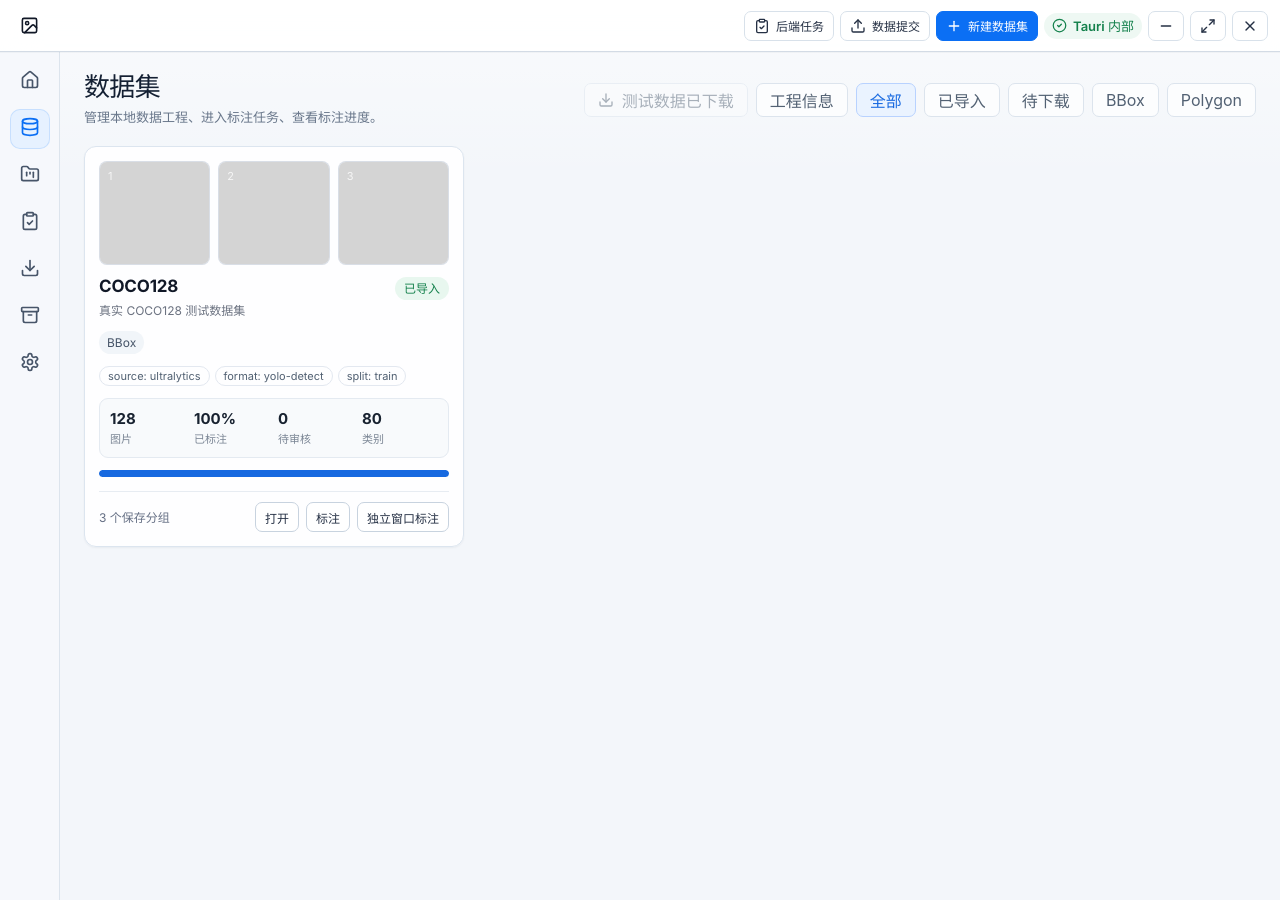
it: desktop shell › 低频工程说明移动到工程信息弹窗
This screenshot has width=1280, height=900.
expect the text "data/workspaces/default" is not shown: met
What coordinates should you click on to do the following:
click the button "工程信息"
I would click on:
 (802, 100)
Its box is [756, 83, 848, 117].
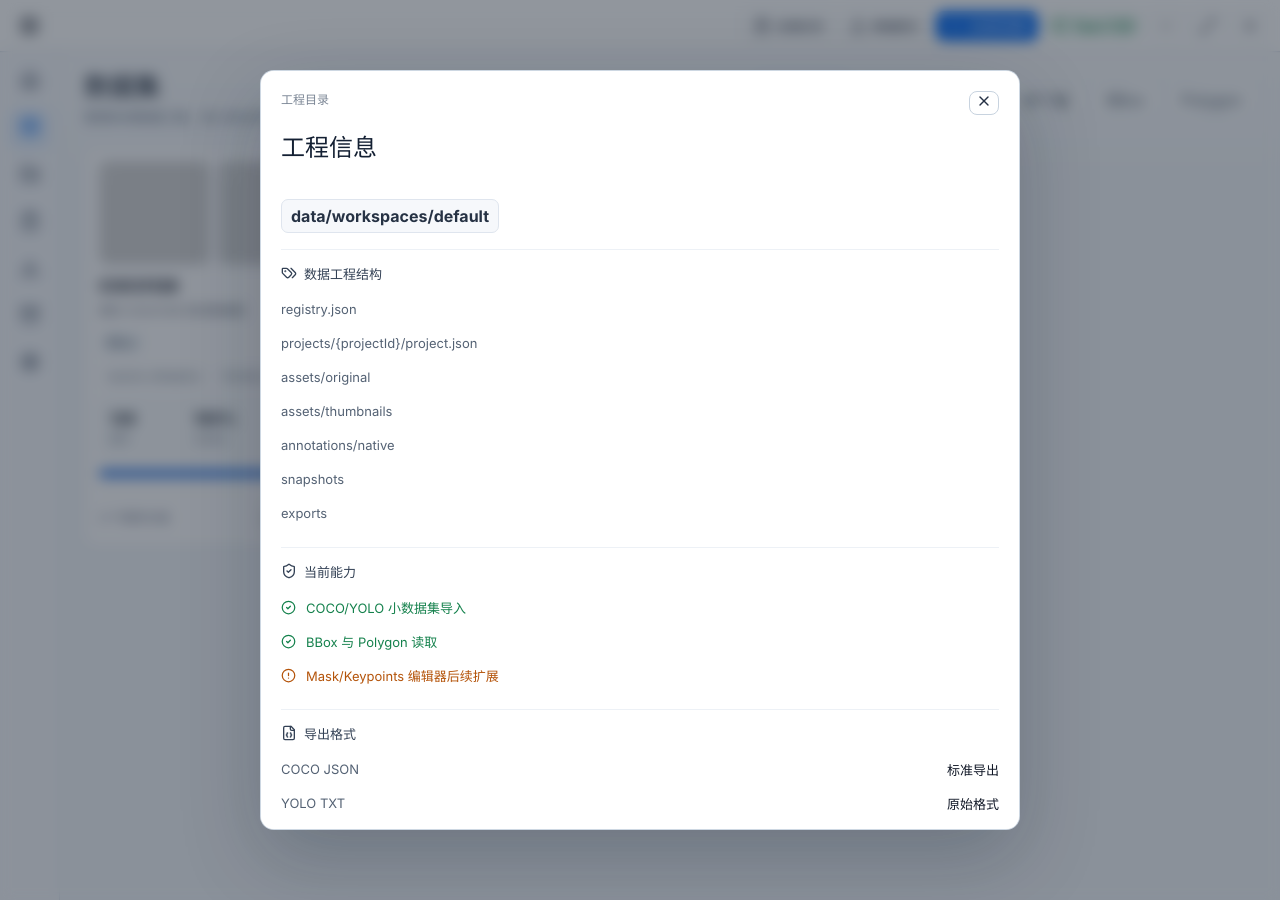
expect the dialog "工程信息" is shown: met, box [260, 70, 1020, 830]
expect the text "data/workspaces/default" is shown: met, box [281, 199, 499, 233]
expect the text "COCO/YOLO 小数据集导入" is shown: met, box [281, 600, 466, 617]
